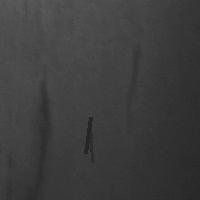inclusion: (30, 69, 56, 194), (122, 40, 148, 117), (83, 115, 92, 155), (88, 120, 94, 164)
